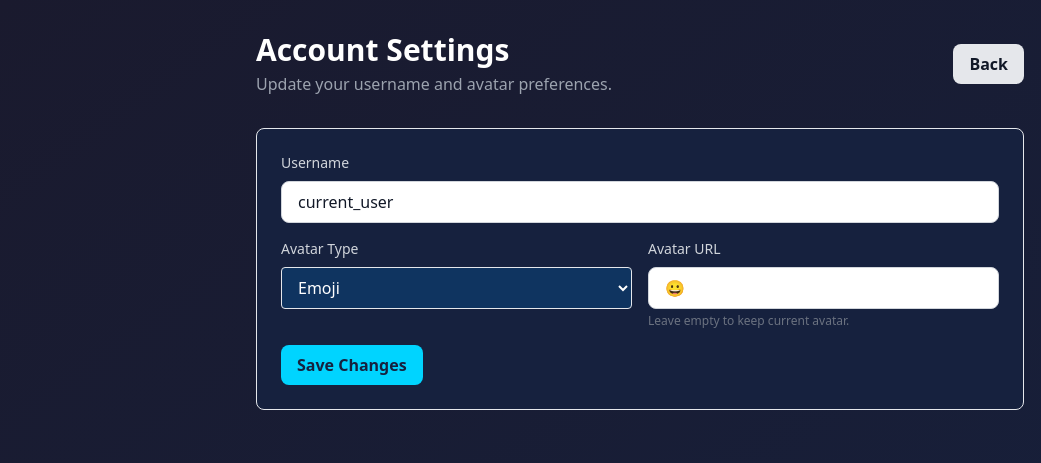
Test case: AccountSettingsPage › updates profile and shows success
The image size is (1041, 463).
Replace the text in the field with test id "username-input" with "new_user" at (640, 202), box [281,181,999,223]
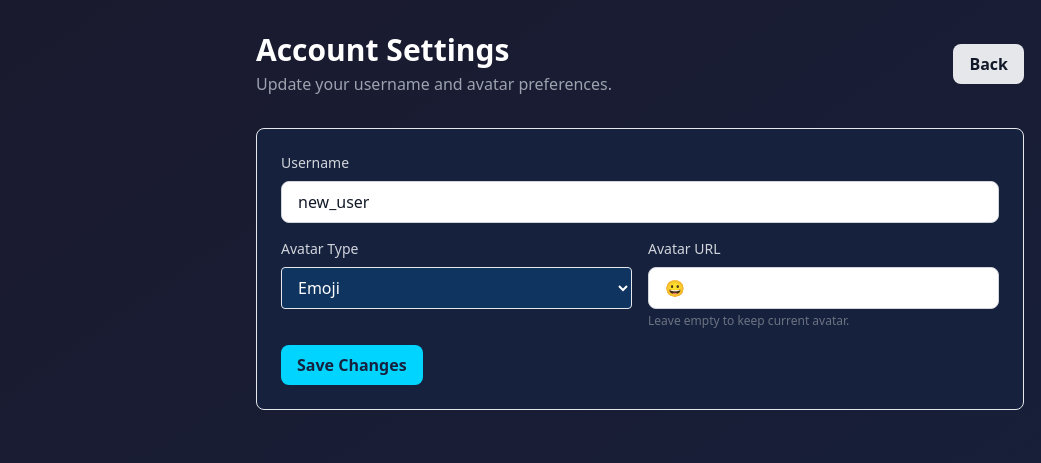
Replace the text in the field with test id "avatar-url" with "https://example.com/avatar.png" at (824, 288), box [648,267,999,309]
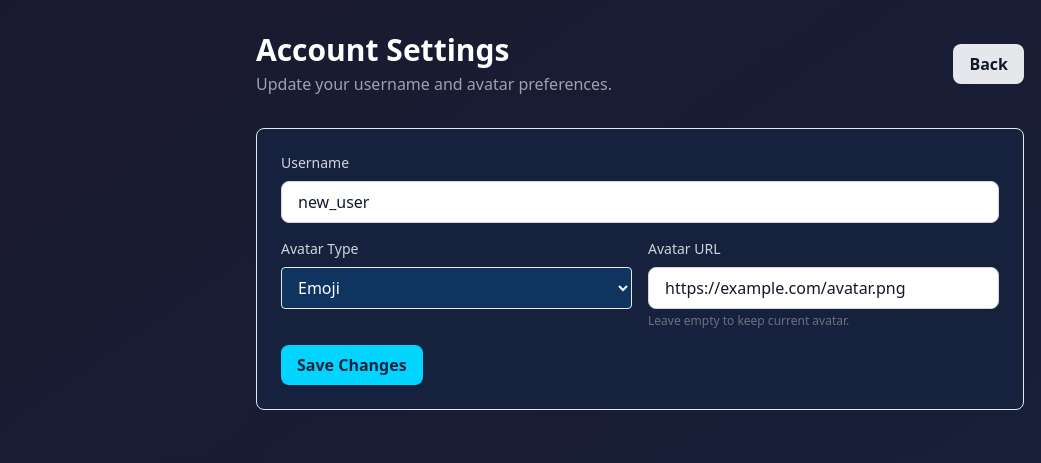
Select "Custom URL" in the dropdown with test id "avatar-type" at (456, 288), box [281,267,632,309]
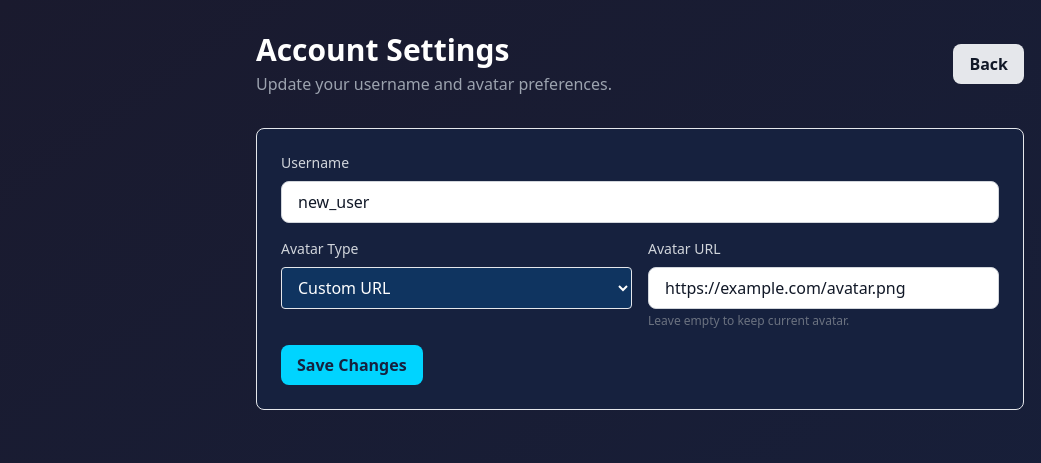
Click the button with test id "save-button".
click(352, 365)  # box [281,345,423,385]
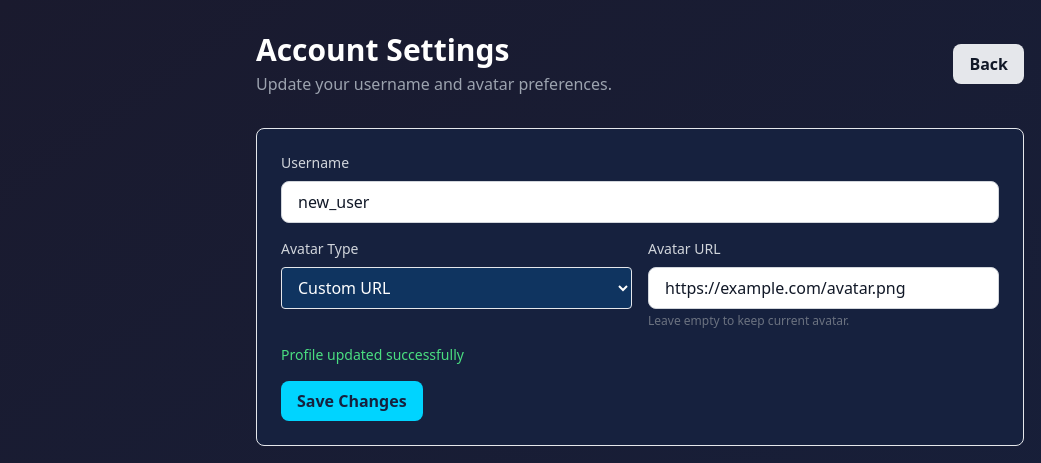
expect the text with test id "status" reads "Profile updated successfully": met, box [281,345,464,364]
